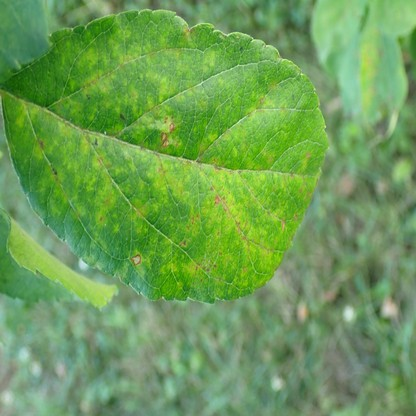scab: (16, 14, 321, 299)
